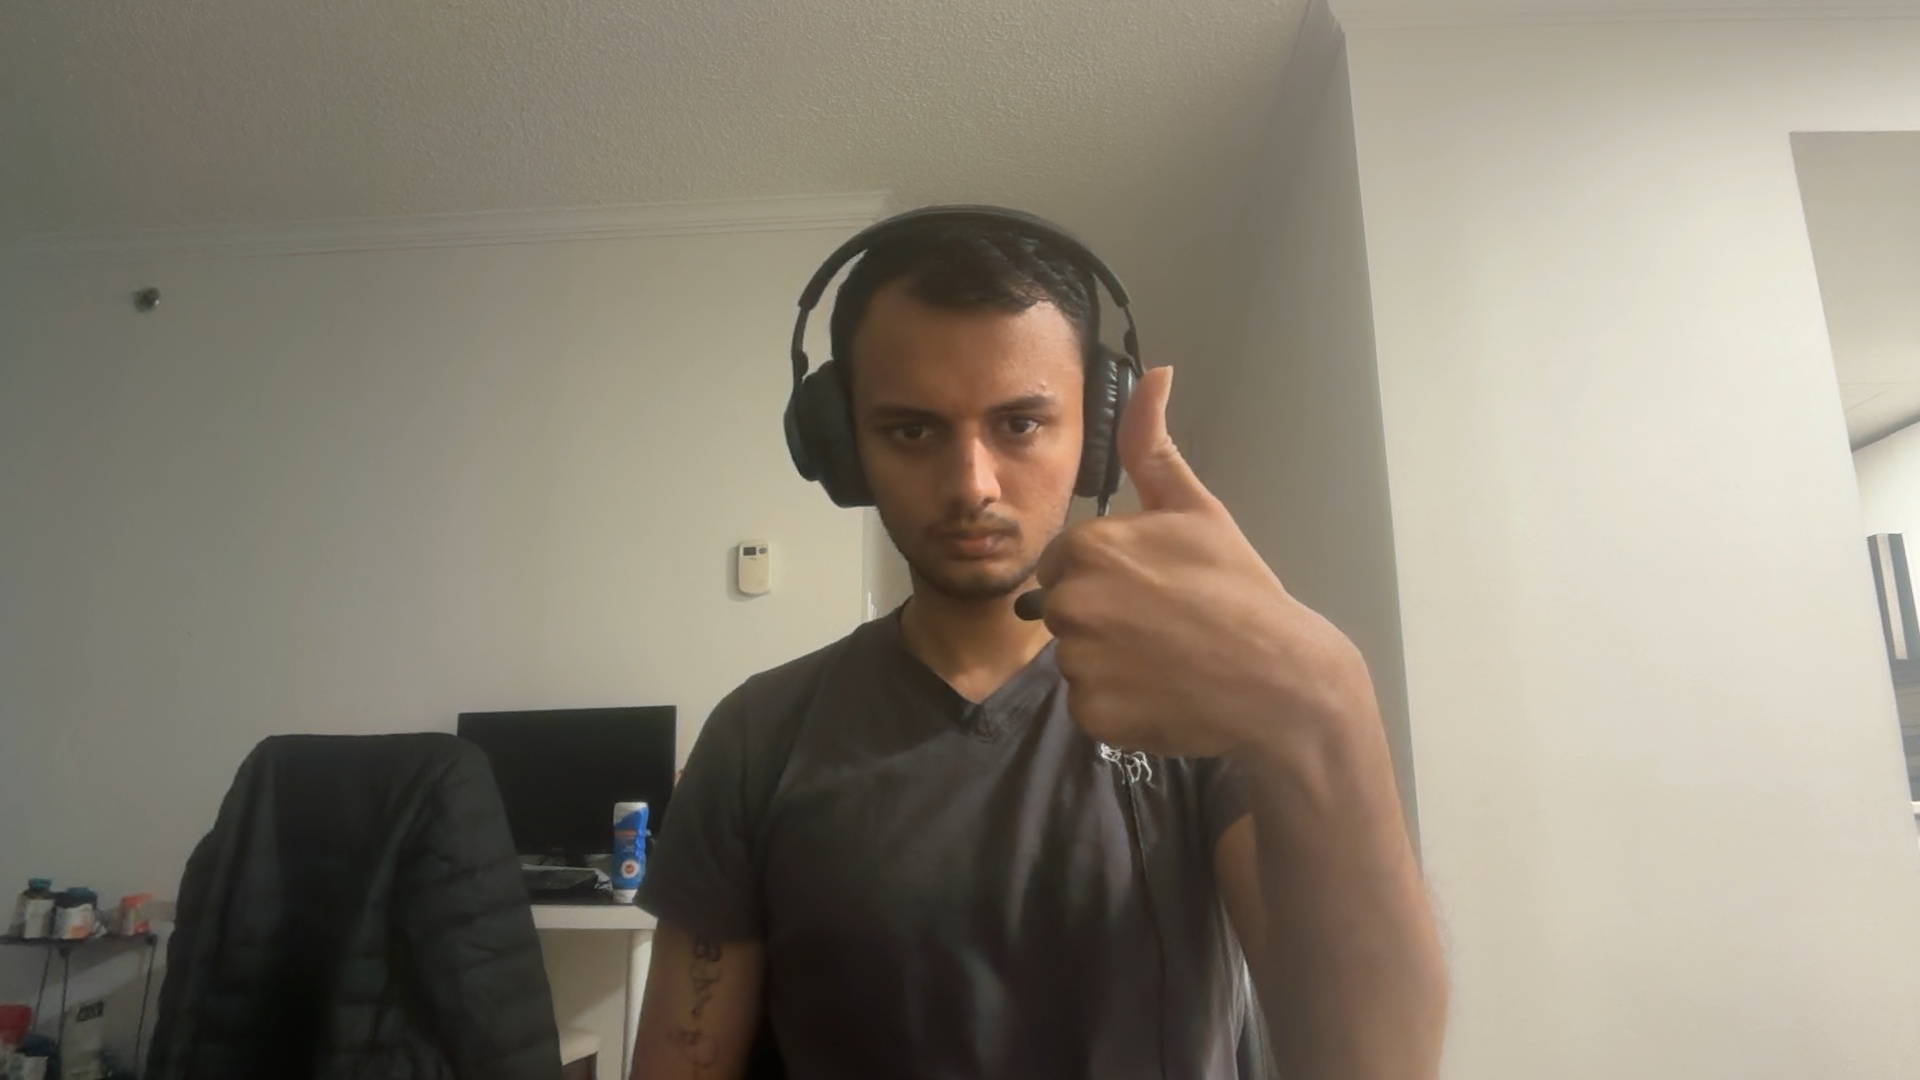thumbsup: (1044, 364, 1286, 756)
